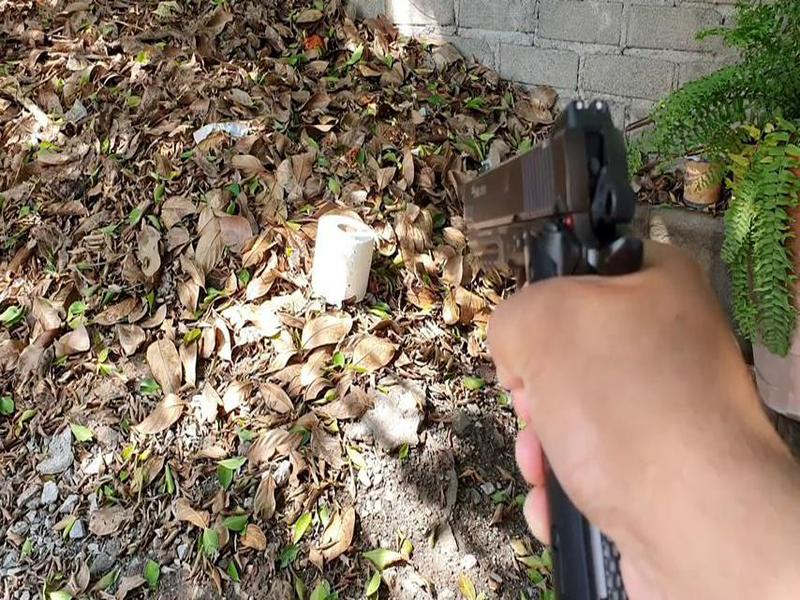Pistola: (434, 103, 670, 600)
